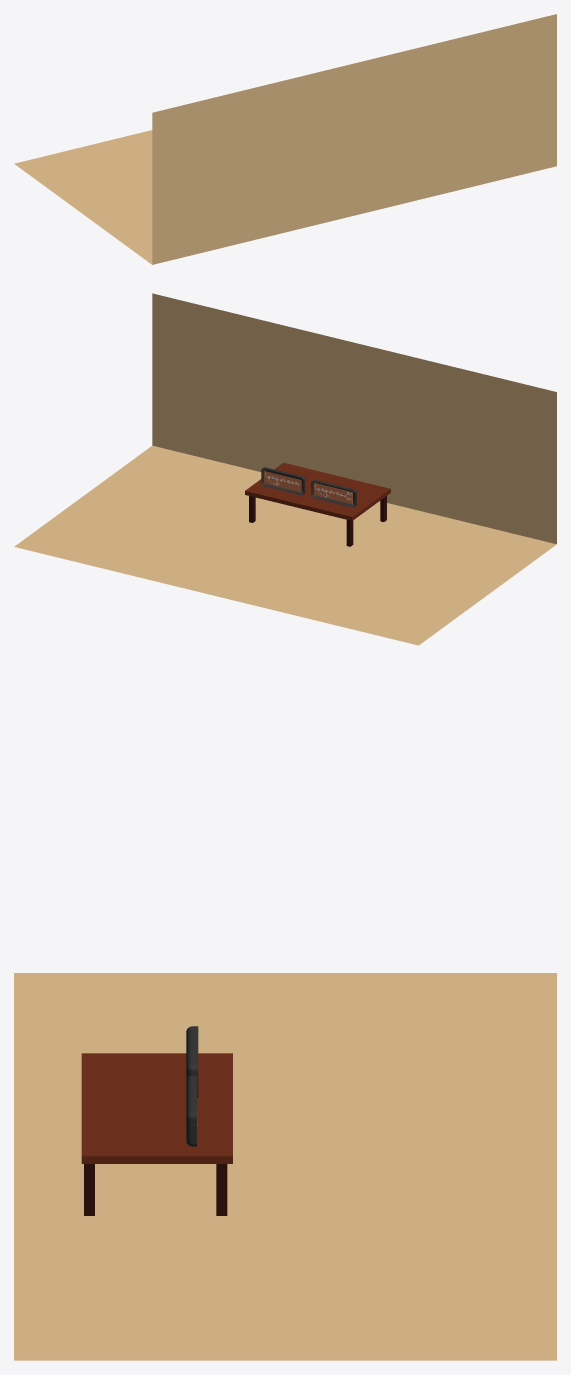
The picture shows the model from 3 angles, top to bottom: view 1: azimuth 30°, elevation 25°; view 2: azimuth 150°, elevation 25°; view 3: azimuth 270°, elevation 25°; orthographic projection. The views are drawn at different scales.
Visible parts, largest first — view 1: bg.001; view 2: bg.001, table, Plane.008, Plane.002, radioCut; view 3: bg.001, table.
Part boxes in pixels (x1=…): bg.001: x1=14, y1=14, x2=556, y2=264; bg.001: x1=14, y1=293, x2=556, y2=645; table: x1=245, y1=462, x2=390, y2=546; Plane.008: x1=314, y1=483, x2=352, y2=504; Plane.002: x1=264, y1=471, x2=301, y2=492; radioCut: x1=261, y1=467, x2=305, y2=495; bg.001: x1=14, y1=973, x2=556, y2=1360; table: x1=81, y1=1053, x2=232, y2=1215.
Bounding box in the file's own units: 49.18 × 17.68 × 29.12.
